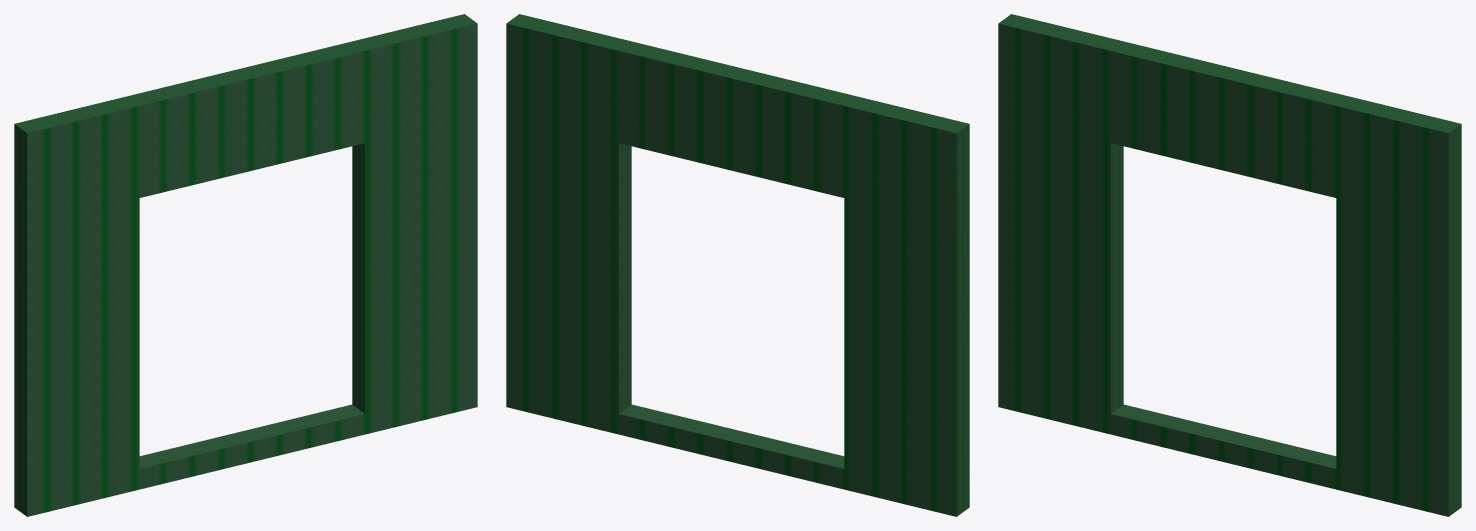
The model's file is WallWithDoorHole.glb.
The picture shows the model from 3 angles, left to right: view 1: azimuth 30°, elevation 25°; view 2: azimuth 150°, elevation 25°; view 3: azimuth 330°, elevation 25°; orthographic projection.
Visible parts, largest first — view 1: WallWithHole; view 2: WallWithHole; view 3: WallWithHole.
Boxes of the visible parts, left/top/right/bottom form: WallWithHole: left=14, top=14, right=477, bottom=516; WallWithHole: left=506, top=14, right=969, bottom=516; WallWithHole: left=998, top=14, right=1461, bottom=516.
Size of the model in its own units: 4 by 3.26 by 0.2.
1 material, 1 textured.
